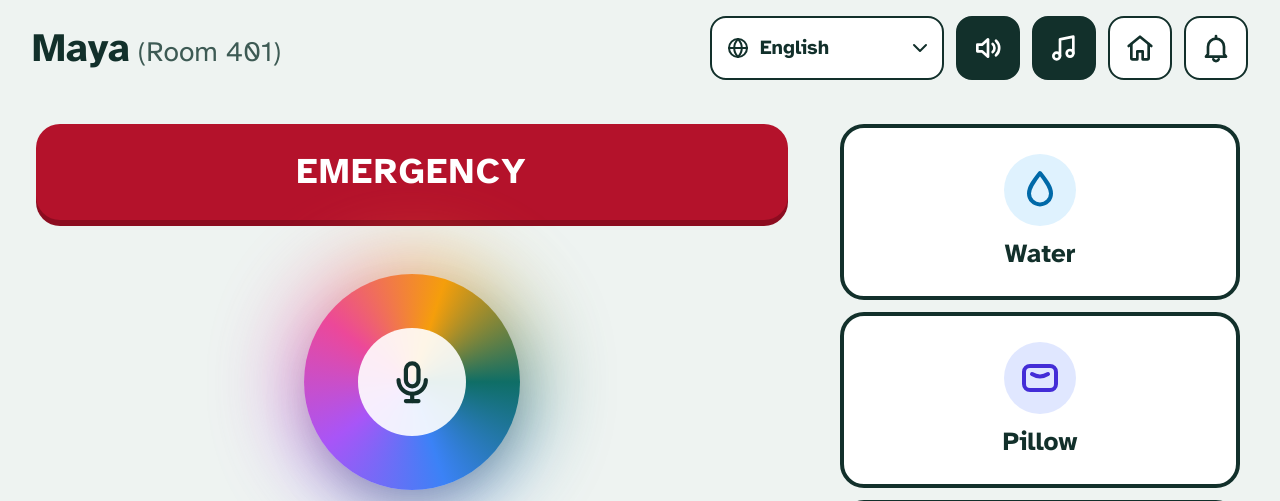
PatientPage › tapping Pillow sends a quick-tap request and shows the confirmation
Note: Pillow is one of the default top 3.
Click the button "Pillow". click: click(1040, 400)
box: [840,312,1240,488]
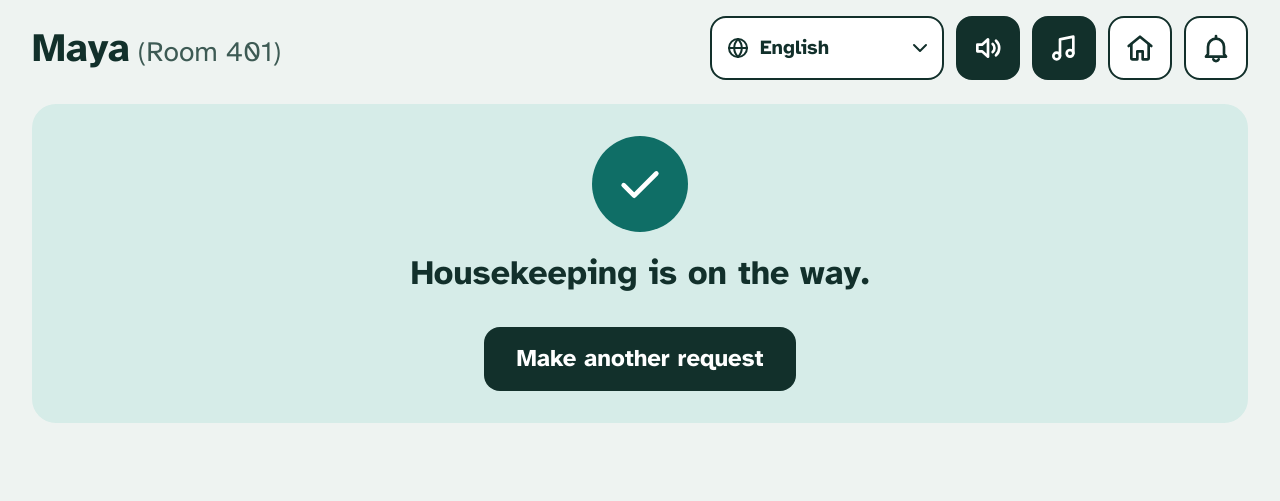
Expected: the message with test id "confirmation" shows "Housekeeping is on the way.", [411,252,869,294]
